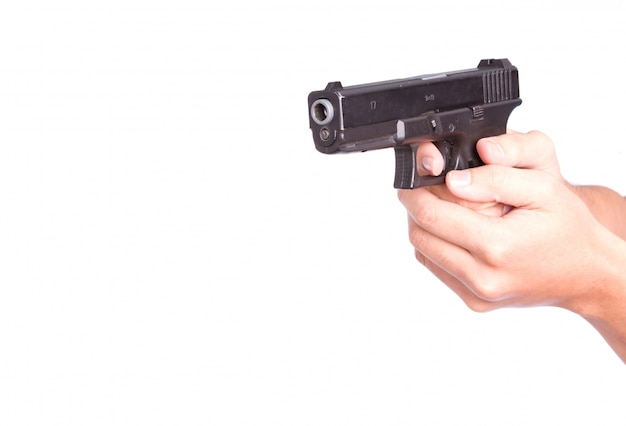gun: (306, 59, 523, 190)
